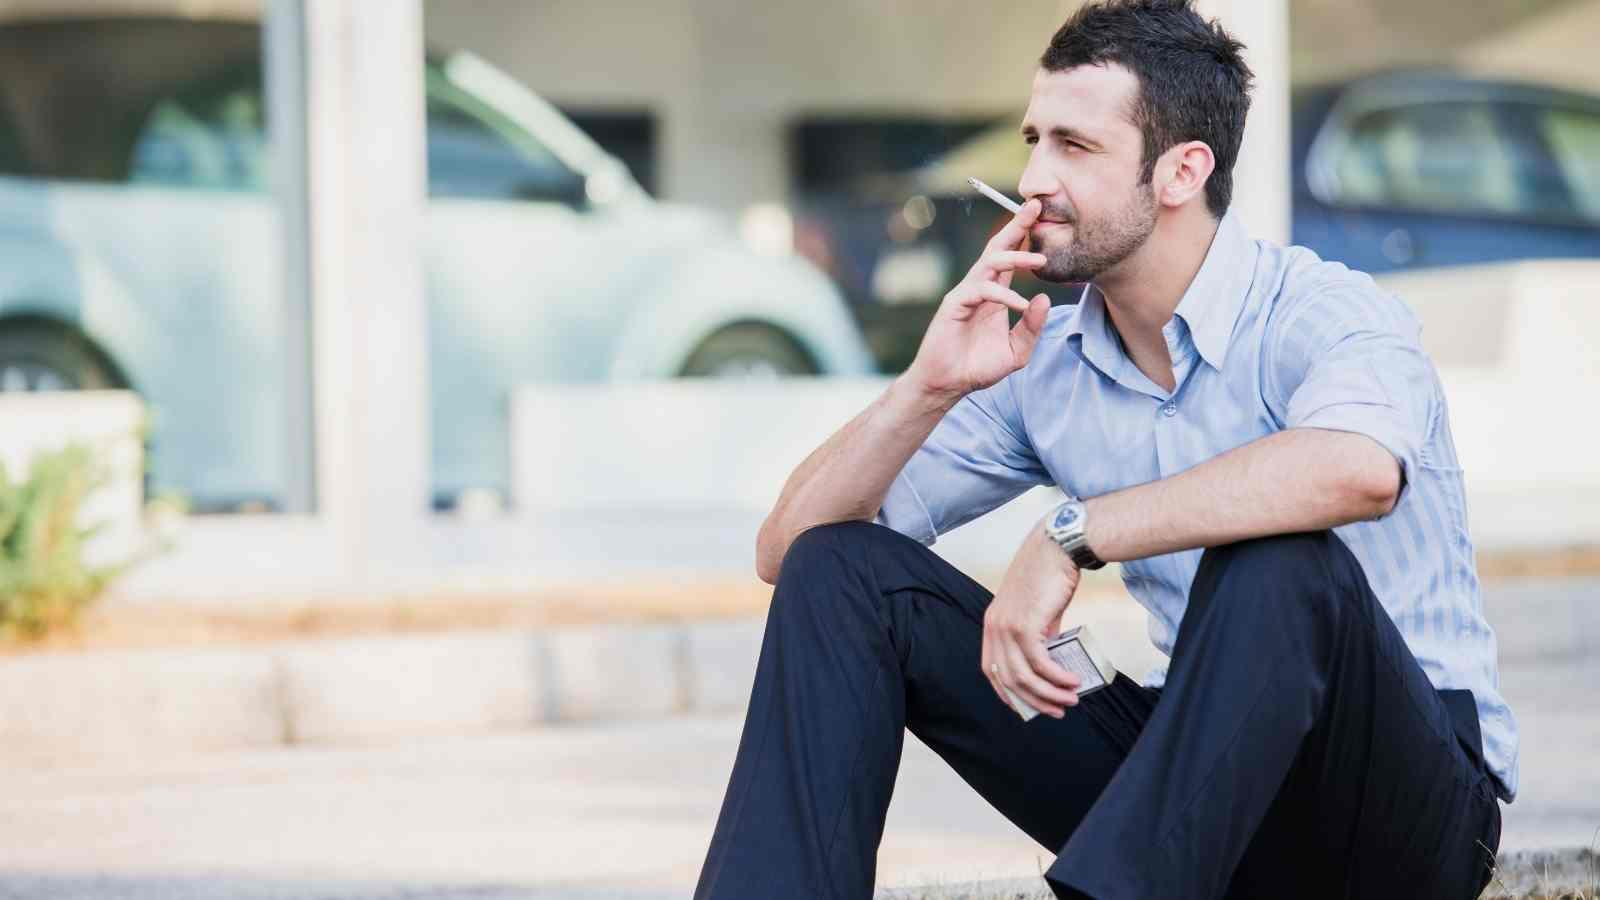cigarette: (967, 173, 1021, 216)
